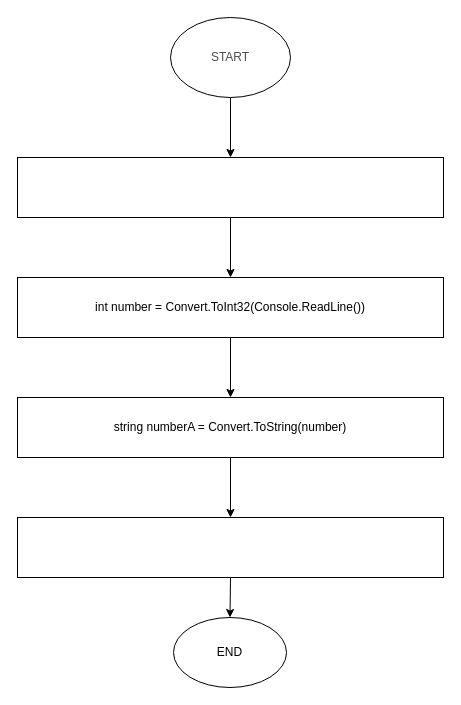
The diagram is 461 pixels wide and 705 high, and some of its shapes have lost their labels. The centre of each missing label's shape, as x and y in pixels:
Console.Write("Введите трёхзначное число: "): the point at 230,187
Console.WriteLine("вторая цифра этого числа -> " +number[1]): the point at 230,547
